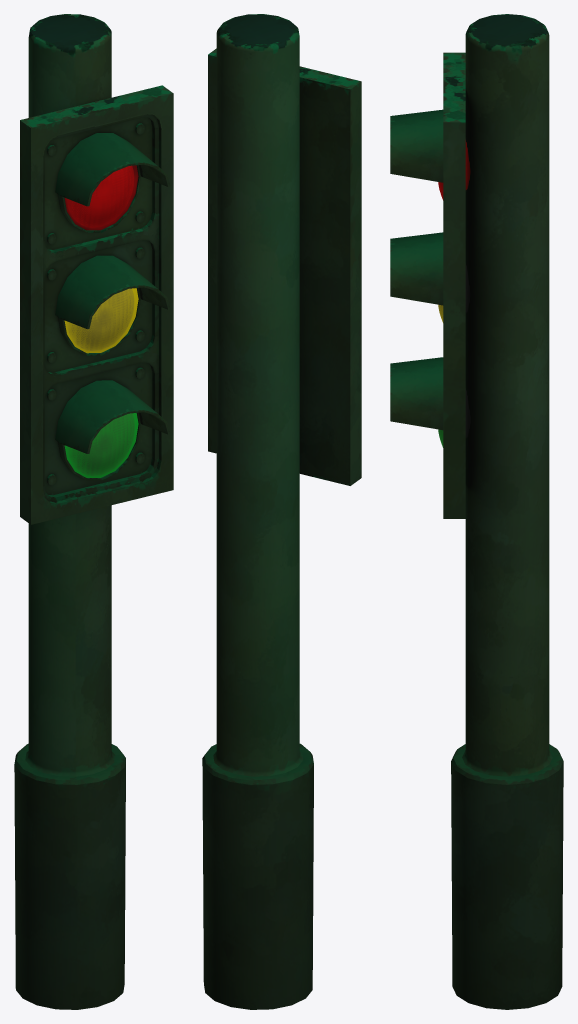
The model's file is TRAFFIC_LIGHT.glb.
3 renders of one model, left to right at view 1: azimuth 30°, elevation 25°; view 2: azimuth 150°, elevation 25°; view 3: azimuth 270°, elevation 25°, orthographic.
Visible parts, largest first — view 1: traffic light; view 2: traffic light; view 3: traffic light.
Boxes of the visible parts, x1,y1,x2,y2 form: traffic light: (14, 14, 173, 1009); traffic light: (202, 14, 361, 1009); traffic light: (390, 14, 563, 1009).
Size of the model in its own units: 0.8291 by 5.32 by 0.8733.
Materials: 1 (1 with a texture image).
